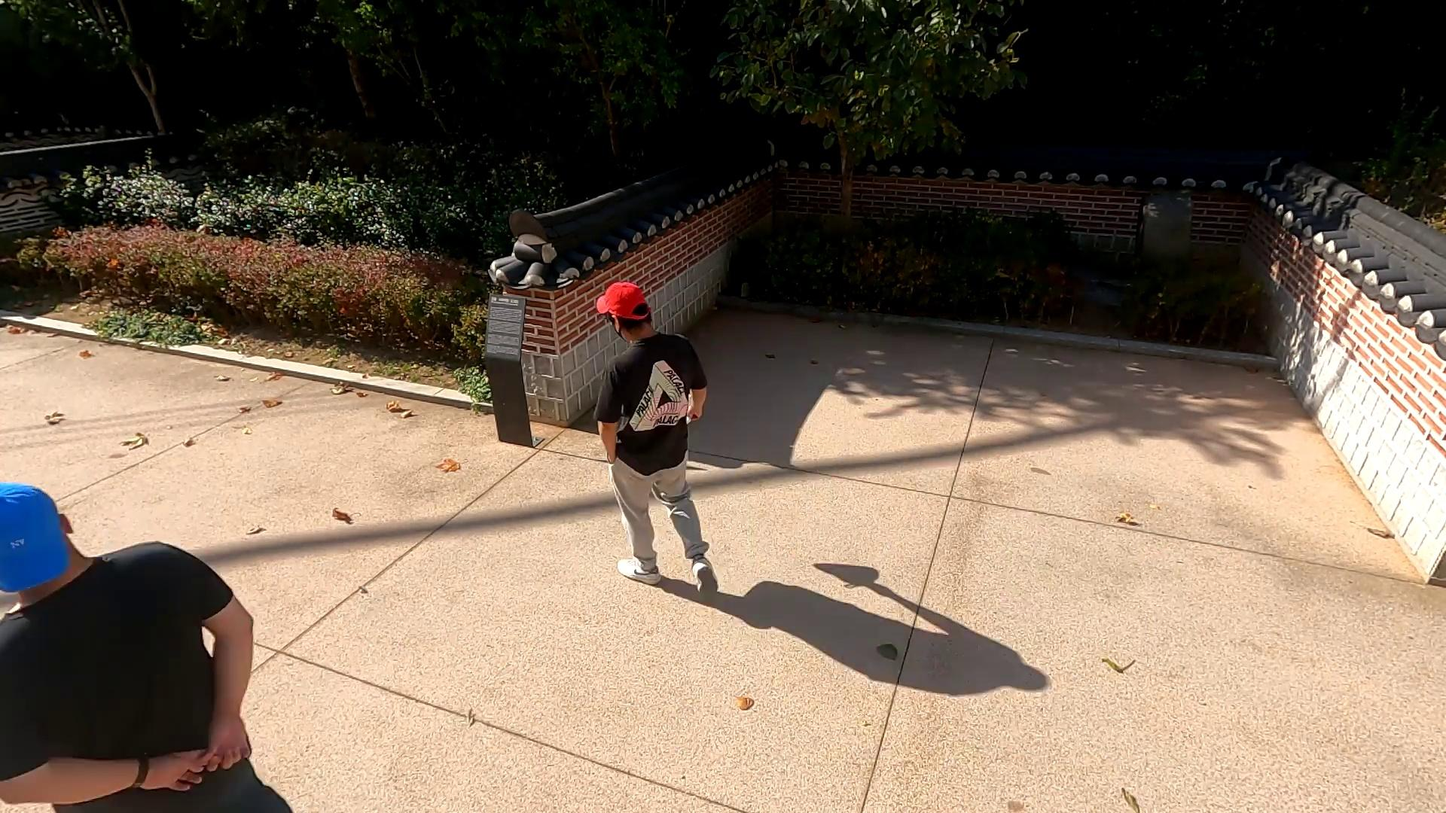person: (0, 478, 297, 813), (587, 271, 729, 603)
